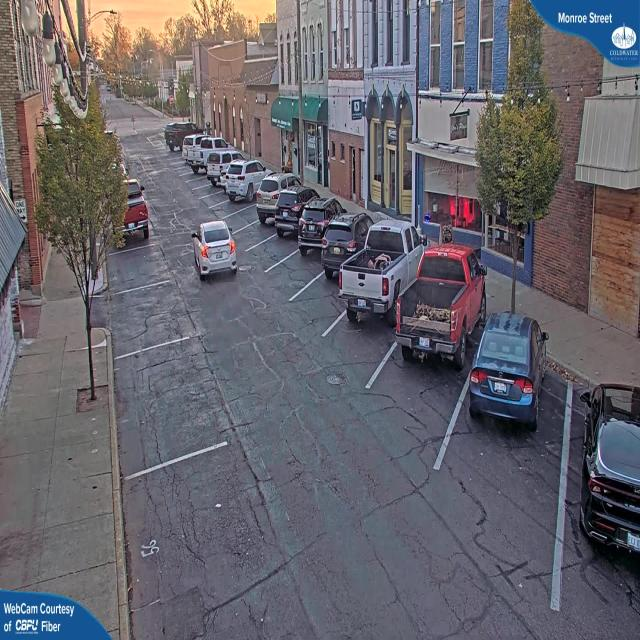available: (123, 440, 262, 608), (121, 327, 226, 459), (110, 278, 196, 349), (111, 241, 180, 300)
occupied: (565, 371, 640, 588), (398, 243, 475, 378), (467, 308, 548, 433), (338, 216, 428, 323), (110, 175, 158, 244), (290, 195, 333, 258), (317, 213, 356, 280), (273, 184, 318, 238), (223, 158, 271, 202), (256, 174, 282, 217), (207, 150, 228, 184), (188, 143, 209, 171), (181, 135, 200, 164), (166, 123, 187, 147)
